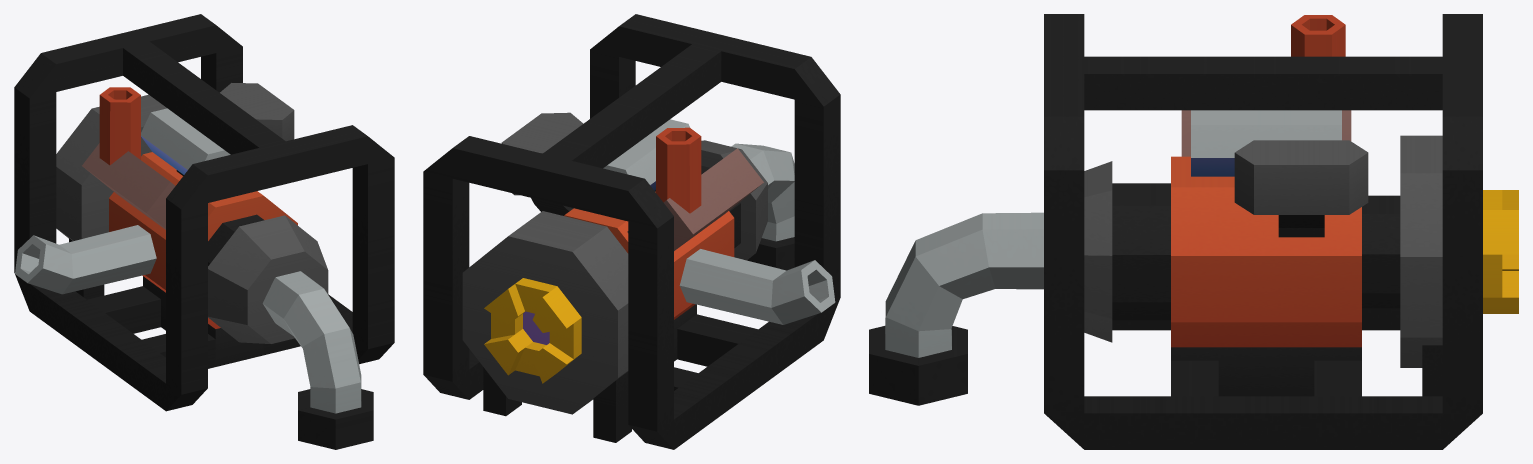
Rendered from Diesel Pump.obj.
3 views of the same model, side by side, from view 1: azimuth 30°, elevation 25°; view 2: azimuth 150°, elevation 25°; view 3: azimuth 270°, elevation 25° (orthographic). The views are drawn at different scales.
Visible parts, largest first — view 1: Cube.001_Cube.002, Cylinder, Plane.001_Plane.004, Plane.003_Plane.007, Plane.002_Plane.003; view 2: Cube.001_Cube.002, Cylinder, Plane.003_Plane.007, Plane.001_Plane.004, Plane.002_Plane.003; view 3: Cylinder, Cube.001_Cube.002, Plane.001_Plane.004, Plane.002_Plane.003.
Boxes of the visible parts, x1,y1,x2,y2 form: Cube.001_Cube.002: (14, 14, 394, 411); Cylinder: (56, 83, 328, 368); Plane.001_Plane.004: (262, 271, 373, 449); Plane.003_Plane.007: (15, 225, 156, 294); Plane.002_Plane.003: (99, 87, 140, 165); Cube.001_Cube.002: (423, 14, 840, 449); Cylinder: (462, 112, 767, 442); Plane.003_Plane.007: (679, 249, 835, 324); Plane.001_Plane.004: (731, 143, 794, 270); Plane.002_Plane.003: (656, 127, 701, 213); Cylinder: (1084, 110, 1518, 396); Cube.001_Cube.002: (1044, 14, 1482, 449); Plane.001_Plane.004: (869, 212, 1043, 405); Plane.002_Plane.003: (1291, 15, 1345, 56).
Size of the model in its own units: 1.74 by 1.39 by 2.59.
